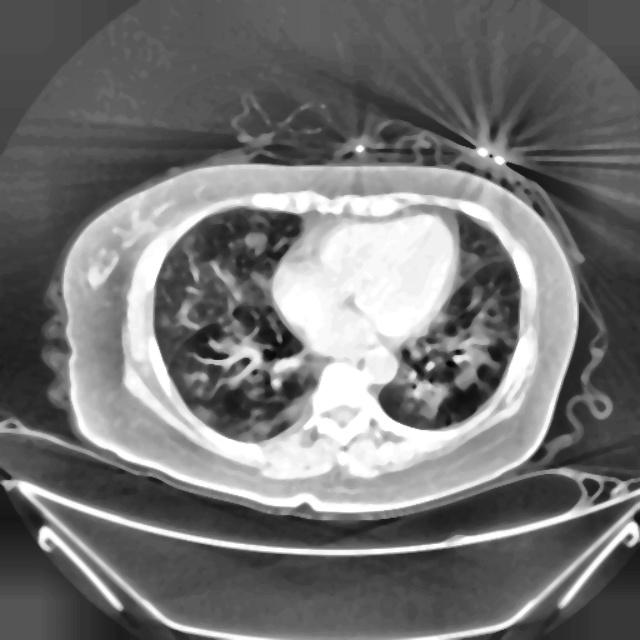covid: (47, 144, 581, 521)
